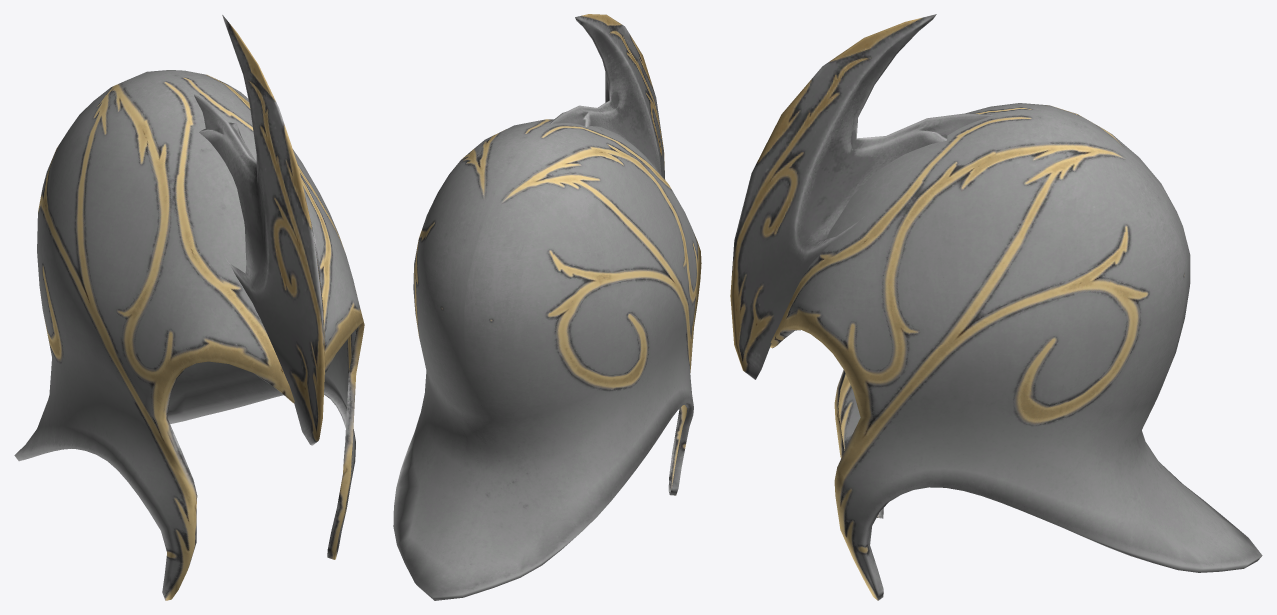
The model's file is rivendell_helmet_archer_tier3_silvergold.fbx.
3 renders of one model, left to right at view 1: azimuth 30°, elevation 25°; view 2: azimuth 150°, elevation 25°; view 3: azimuth 270°, elevation 25°, orthographic. The views are drawn at different scales.
Visible parts, largest first — view 1: rivendell_helmet_archer_tier3_silvergold.1, rivendell_helmet_archer_tier3_silvergold.0; view 2: rivendell_helmet_archer_tier3_silvergold.1, rivendell_helmet_archer_tier3_silvergold.0; view 3: rivendell_helmet_archer_tier3_silvergold.1, rivendell_helmet_archer_tier3_silvergold.0.
Boxes of the visible parts, x1,y1,x2,y2 form: rivendell_helmet_archer_tier3_silvergold.1: (14,70,364,600); rivendell_helmet_archer_tier3_silvergold.0: (194,15,325,445); rivendell_helmet_archer_tier3_silvergold.1: (393,119,701,600); rivendell_helmet_archer_tier3_silvergold.0: (550,14,665,179); rivendell_helmet_archer_tier3_silvergold.1: (770,103,1262,600); rivendell_helmet_archer_tier3_silvergold.0: (730,14,992,379).
Bounding box in the file's own units: 0.1912 × 0.3477 × 0.3947.
Materials: 2 (2 with a texture image).
